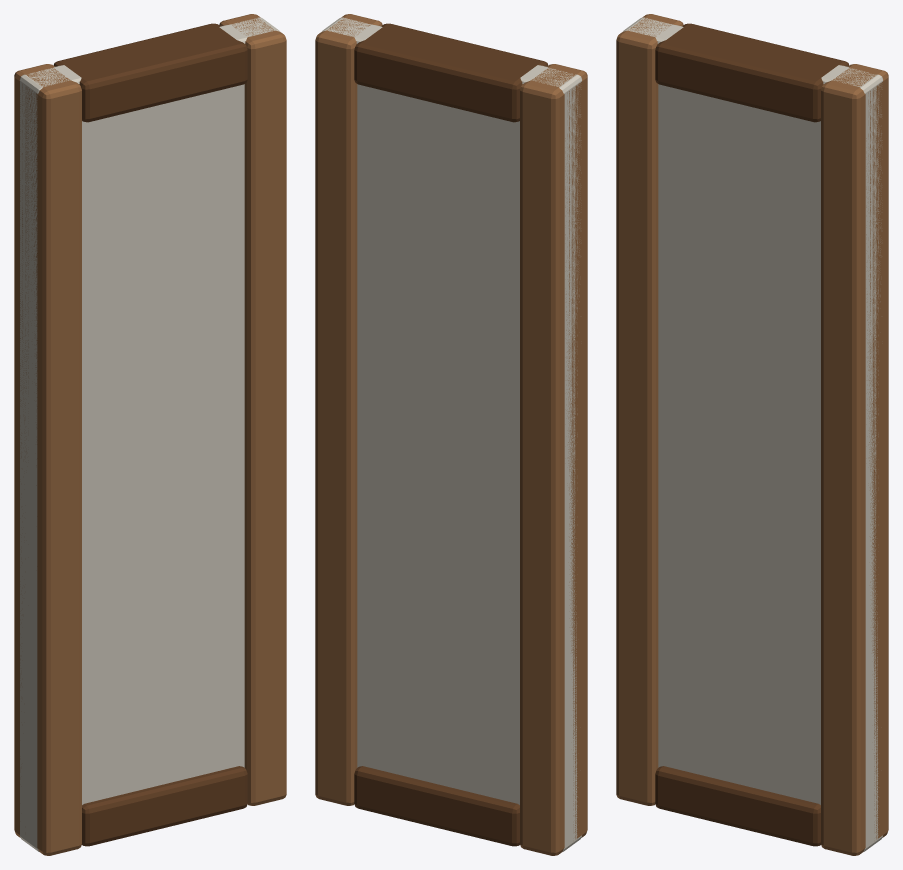
File: wall_pier_1x3.glb
3 renders of one model, left to right at view 1: azimuth 30°, elevation 25°; view 2: azimuth 150°, elevation 25°; view 3: azimuth 330°, elevation 25°, orthographic.
Visible parts, largest first — view 1: wall_pier_plaster, wall_pier_left_post, wall_pier_right_post, wall_pier_top_rail, wall_pier_bottom_rail; view 2: wall_pier_plaster, wall_pier_left_post, wall_pier_right_post, wall_pier_top_rail, wall_pier_bottom_rail; view 3: wall_pier_plaster, wall_pier_right_post, wall_pier_left_post, wall_pier_top_rail, wall_pier_bottom_rail.
Boxes of the visible parts, <box> form: wall_pier_plaster: <box>20,17,279,851</box>; wall_pier_left_post: <box>14,64,81,855</box>; wall_pier_right_post: <box>219,14,286,805</box>; wall_pier_top_rail: <box>53,23,247,122</box>; wall_pier_bottom_rail: <box>82,766,247,846</box>; wall_pier_plaster: <box>322,17,581,851</box>; wall_pier_left_post: <box>520,64,587,855</box>; wall_pier_right_post: <box>315,14,382,805</box>; wall_pier_top_rail: <box>354,23,548,122</box>; wall_pier_bottom_rail: <box>354,766,519,846</box>; wall_pier_plaster: <box>623,17,882,851</box>; wall_pier_right_post: <box>821,64,888,855</box>; wall_pier_left_post: <box>616,14,683,805</box>; wall_pier_top_rail: <box>655,23,849,122</box>; wall_pier_bottom_rail: <box>655,766,820,846</box>.
Bounding box in the file's own units: 1 × 3 × 0.24.
